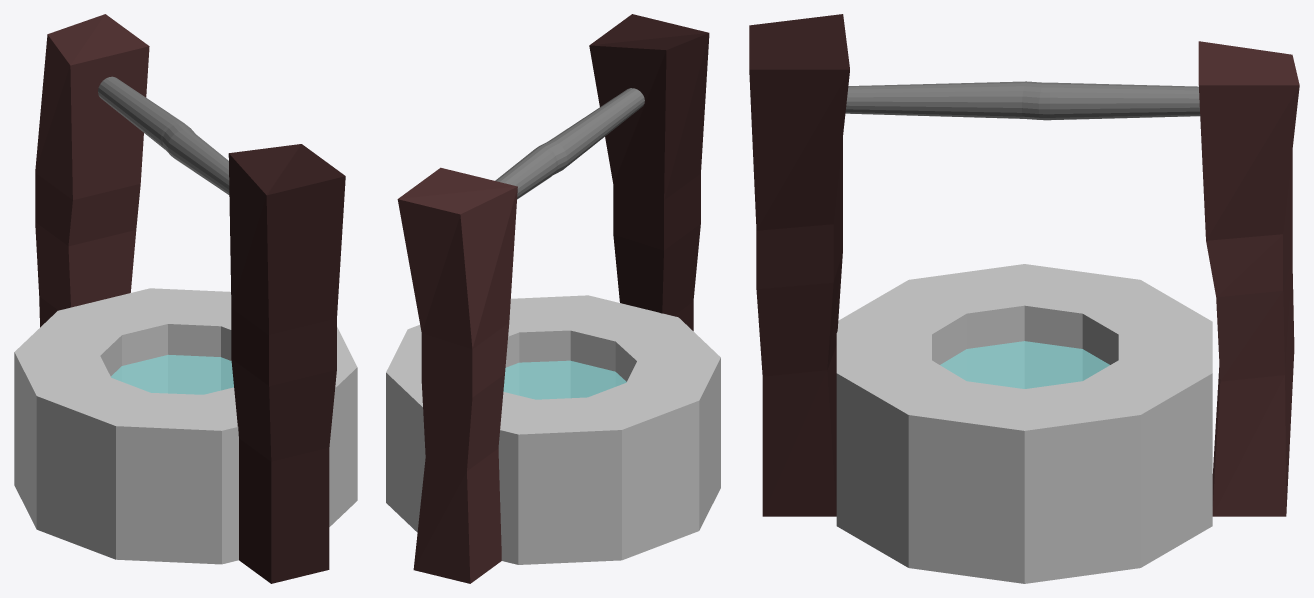
Rendered from well.fbx.
3 renders of one model, left to right at view 1: azimuth 30°, elevation 25°; view 2: azimuth 150°, elevation 25°; view 3: azimuth 270°, elevation 25°, orthographic. The views are drawn at different scales.
Visible parts, largest first — view 1: well; view 2: well; view 3: well.
Part boxes in pixels (box(x1,y1,x2,y2)): well: box(14, 14, 357, 583); well: box(386, 14, 720, 583); well: box(749, 14, 1299, 583).
Size of the model in its own units: 3.22 by 4.2 by 4.49.
